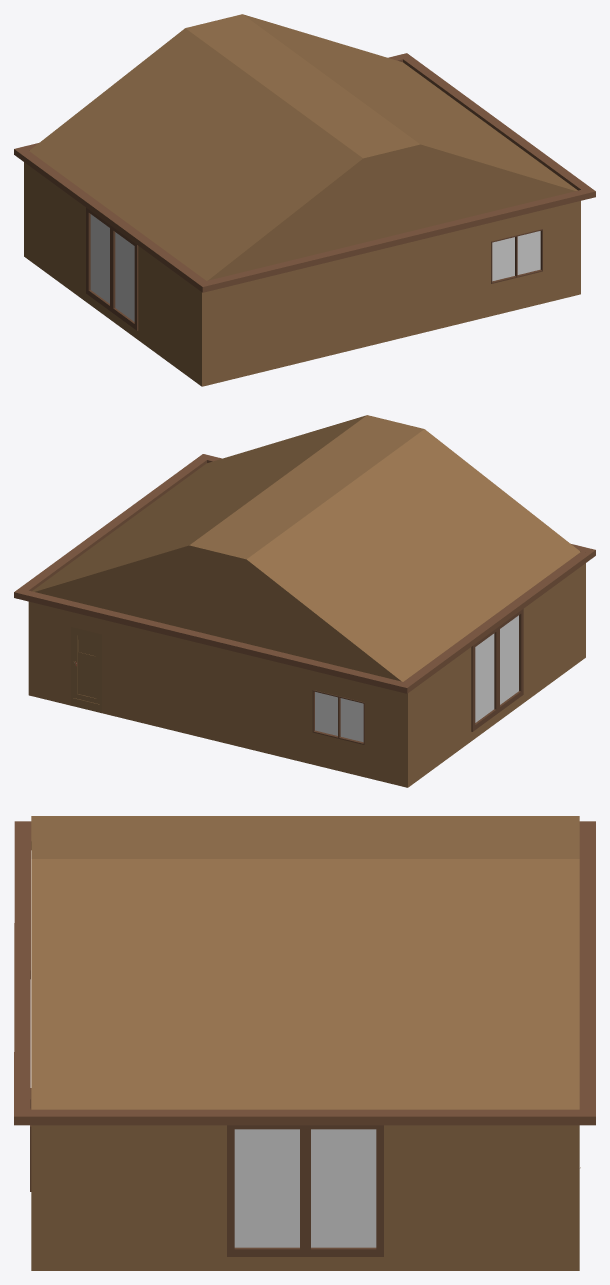
File: House_18.fbx
The picture shows the model from 3 angles, top to bottom: view 1: azimuth 30°, elevation 25°; view 2: azimuth 150°, elevation 25°; view 3: azimuth 270°, elevation 25°; orthographic projection. The views are drawn at different scales.
Visible parts, largest first — view 1: House_18_Body; view 2: House_18_Body; view 3: House_18_Body.
Boxes of the visible parts, bbox=[...] form: House_18_Body: bbox=[14, 14, 595, 386]; House_18_Body: bbox=[14, 415, 595, 787]; House_18_Body: bbox=[14, 816, 595, 1270].
Bounding box in the file's own units: 1546 × 710 × 1287.
